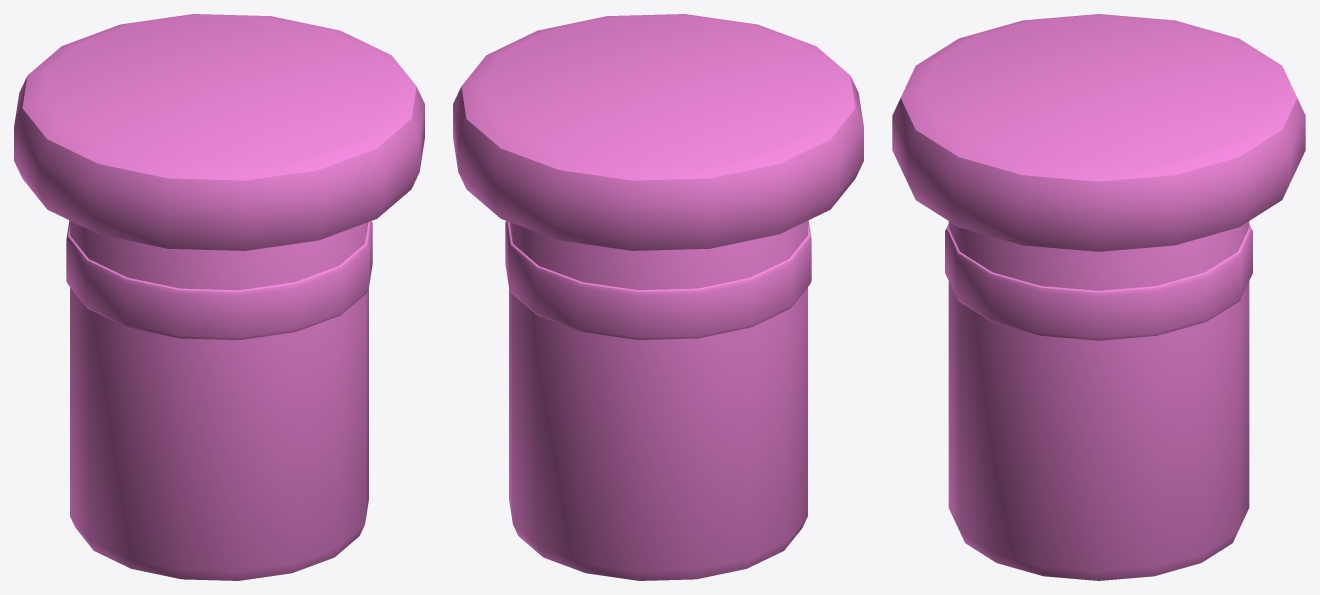
The model's file is Docks_Bollard.fbx.
3 renders of one model, left to right at view 1: azimuth 30°, elevation 25°; view 2: azimuth 150°, elevation 25°; view 3: azimuth 270°, elevation 25°, orthographic.
Parts seen in each view (by area): view 1: Bollard; view 2: Bollard; view 3: Bollard.
Boxes of the visible parts, x1,y1,x2,y2 form: Bollard: (14,14,424,580); Bollard: (453,14,863,580); Bollard: (892,14,1305,580).
Size of the model in its own units: 2.2 by 2.55 by 2.2.
Materials: 1 (1 with a texture image).
